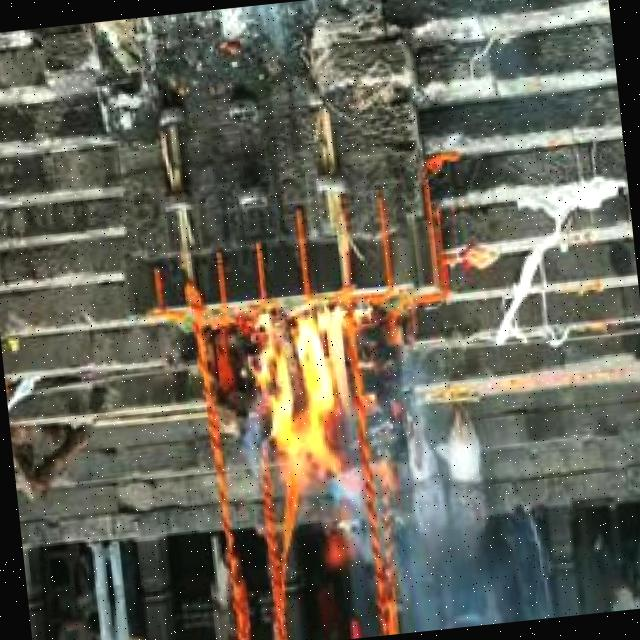fire: (250, 304, 359, 480)
